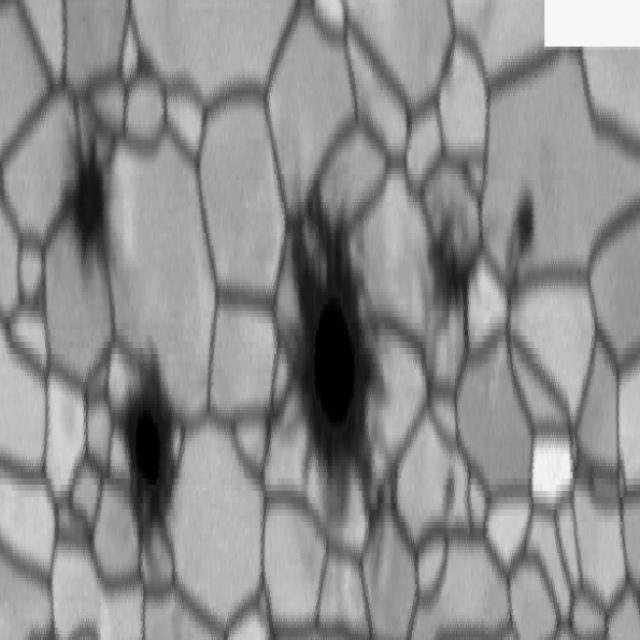good_void: (275, 195, 386, 531), (110, 342, 183, 551), (60, 100, 118, 285), (426, 210, 468, 335), (432, 455, 460, 529), (508, 189, 536, 258)
